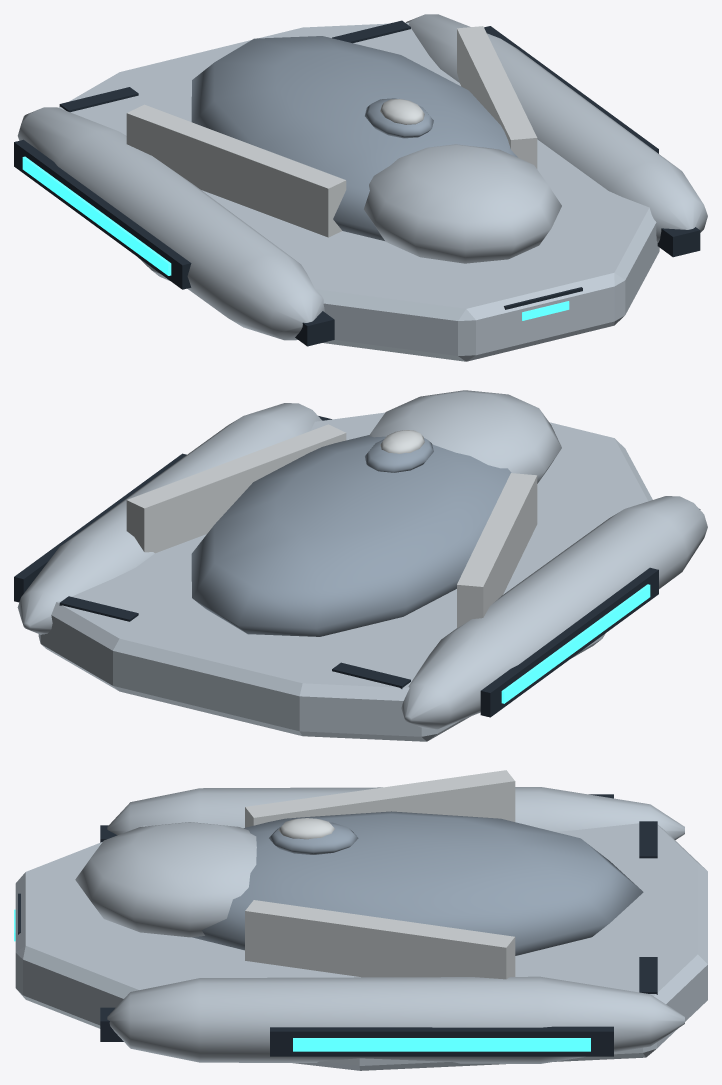
The model's file is compact-escort_LOD2.fbx.
3 views of the same model, one above another, from view 1: azimuth 30°, elevation 25°; view 2: azimuth 150°, elevation 25°; view 3: azimuth 270°, elevation 25° (orthographic). The views are drawn at different scales.
Parts seen in each view (by area): view 1: compact-escort_Hull_LOD2, compact-escort_PortNacelle_LOD2, compact-escort_StarboardNacelle_LOD2, compact-escort_ForwardEquipment_LOD2; view 2: compact-escort_Hull_LOD2, compact-escort_PortNacelle_LOD2, compact-escort_StarboardNacelle_LOD2; view 3: compact-escort_Hull_LOD2, compact-escort_StarboardNacelle_LOD2, compact-escort_PortNacelle_LOD2.
Part boxes in pixels (x1,y1,x2,y2): compact-escort_Hull_LOD2: [58, 20, 700, 361]; compact-escort_PortNacelle_LOD2: [14, 107, 324, 340]; compact-escort_StarboardNacelle_LOD2: [406, 14, 707, 242]; compact-escort_ForwardEquipment_LOD2: [504, 287, 582, 320]; compact-escort_Hull_LOD2: [38, 390, 700, 741]; compact-escort_PortNacelle_LOD2: [401, 496, 707, 729]; compact-escort_StarboardNacelle_LOD2: [14, 403, 321, 634]; compact-escort_Hull_LOD2: [15, 770, 707, 1070]; compact-escort_StarboardNacelle_LOD2: [107, 976, 684, 1063]; compact-escort_PortNacelle_LOD2: [107, 787, 684, 840].
Size of the model in its own units: 13917 by 3837 by 17000.
